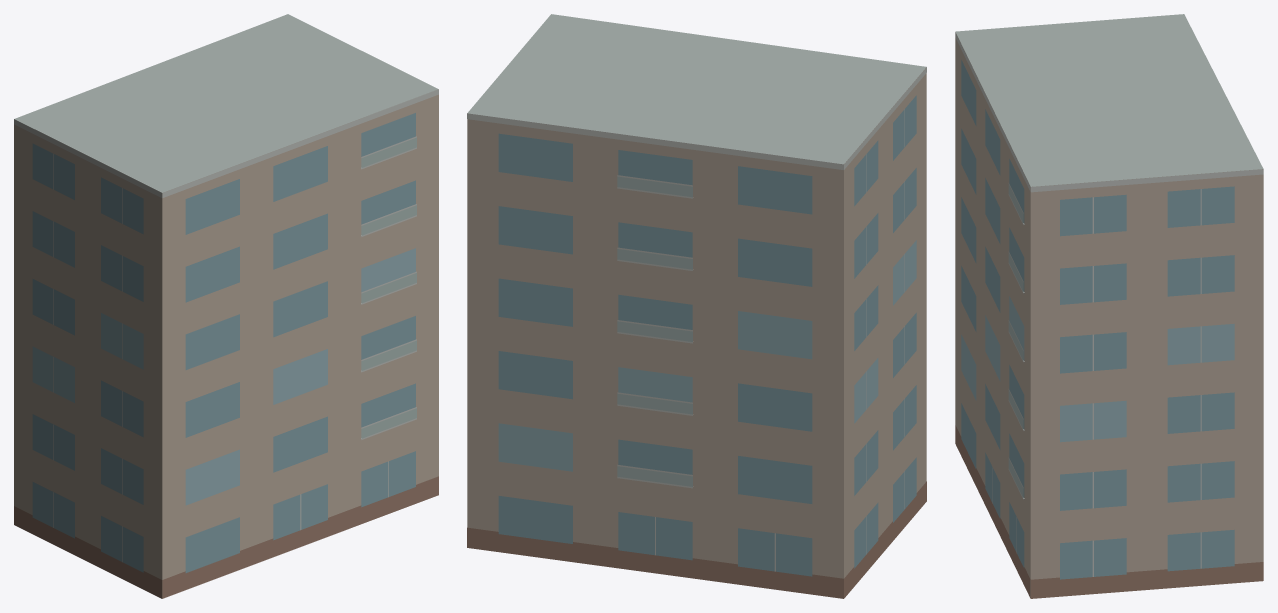
Rendered from survey-upis-32873744.glb.
The picture shows the model from 3 angles, left to right: view 1: azimuth 30°, elevation 25°; view 2: azimuth 150°, elevation 25°; view 3: azimuth 270°, elevation 25°; orthographic projection. The views are drawn at different scales.
Visible parts, largest first — view 1: survey-upis-32873744.tmp; view 2: survey-upis-32873744.tmp; view 3: survey-upis-32873744.tmp.
Boxes of the visible parts, x1=… form: survey-upis-32873744.tmp: x1=14, y1=14, x2=438, y2=598; survey-upis-32873744.tmp: x1=467, y1=14, x2=926, y2=598; survey-upis-32873744.tmp: x1=955, y1=14, x2=1263, y2=598.
Size of the model in its own units: 16.48 by 18.3 by 12.42.
